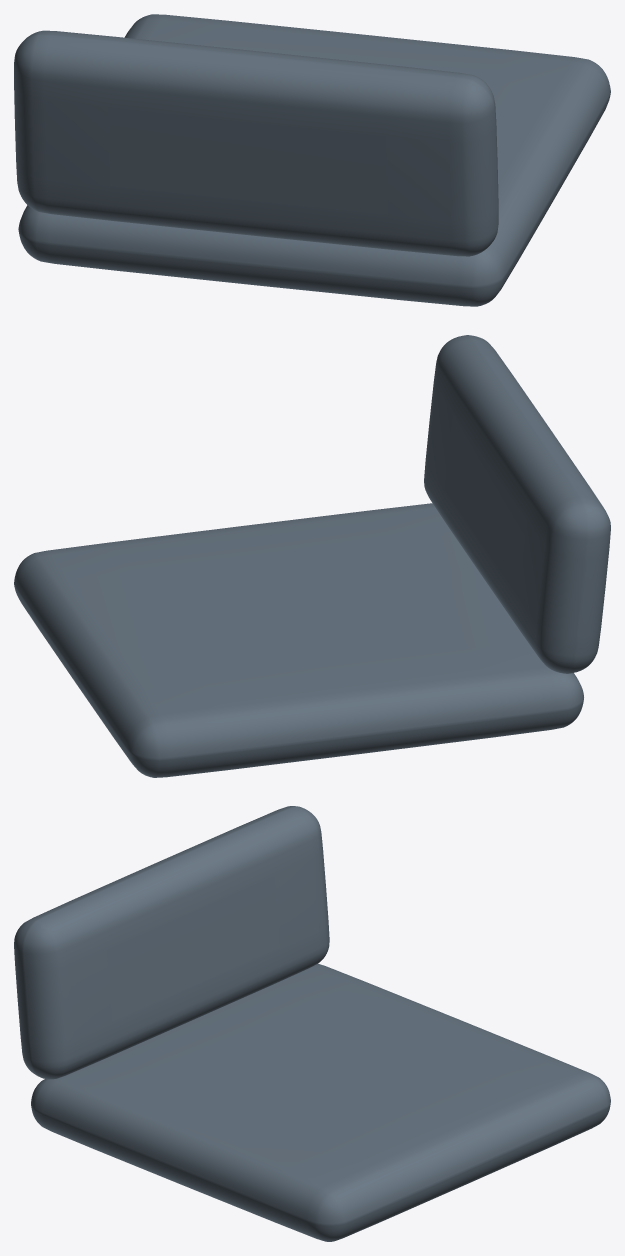
The model's file is the-terrace-stool-pillows.fbx.
3 renders of one model, top to bottom at view 1: azimuth 30°, elevation 25°; view 2: azimuth 150°, elevation 25°; view 3: azimuth 270°, elevation 25°, orthographic. The views are drawn at different scales.
Parts seen in each view (by area): view 1: Cube.012; view 2: Cube.012; view 3: Cube.012.
Boxes of the visible parts, x1=… form: Cube.012: x1=14, y1=14, x2=610, y2=306; Cube.012: x1=14, y1=335, x2=610, y2=777; Cube.012: x1=14, y1=806, x2=610, y2=1241.
Bounding box in the file's own units: 195 × 73.88 × 195.
